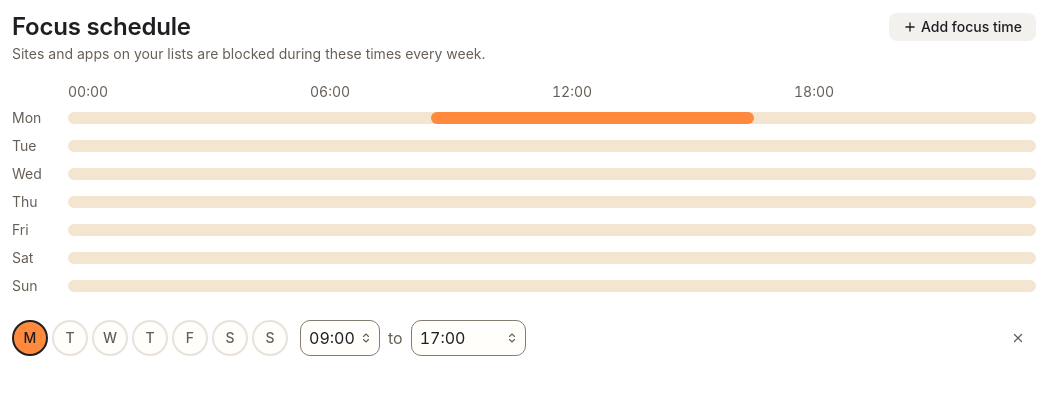
marks a focus time without days
Step 1. Click the button named "Monday" → (30,338), box [12,320,48,356]
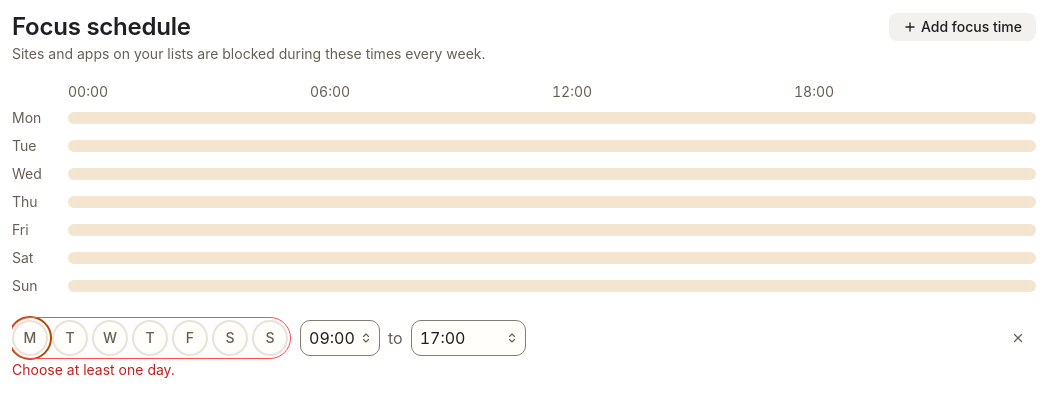
Now the message reads "Choose at least one day.", box [12,361,175,378]
